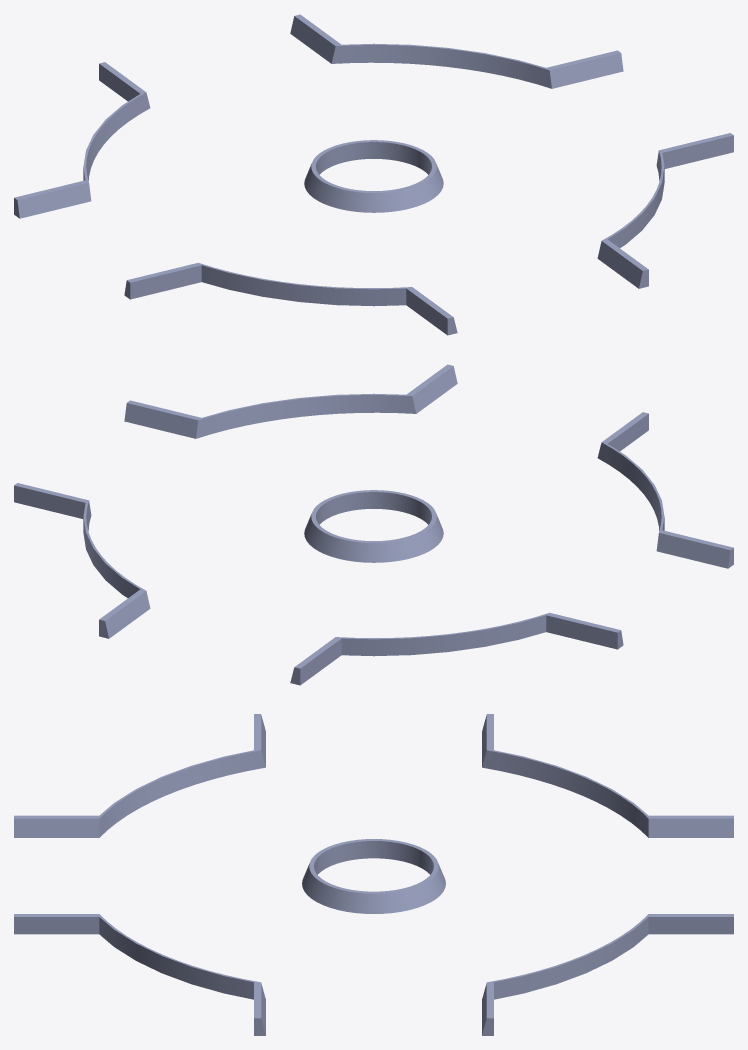
File: road-roundabout-barrier.glb
The picture shows the model from 3 angles, top to bottom: view 1: azimuth 30°, elevation 25°; view 2: azimuth 150°, elevation 25°; view 3: azimuth 270°, elevation 25°; orthographic projection. The views are drawn at different scales.
Parts seen in each view (by area): view 1: road-roundabout-barrier; view 2: road-roundabout-barrier; view 3: road-roundabout-barrier.
Boxes of the visible parts, bbox=[...] form: road-roundabout-barrier: bbox=[14, 14, 733, 335]; road-roundabout-barrier: bbox=[14, 364, 733, 685]; road-roundabout-barrier: bbox=[14, 714, 733, 1035].
Size of the model in its own units: 3 by 0.08 by 3.
1 material, 1 textured.
